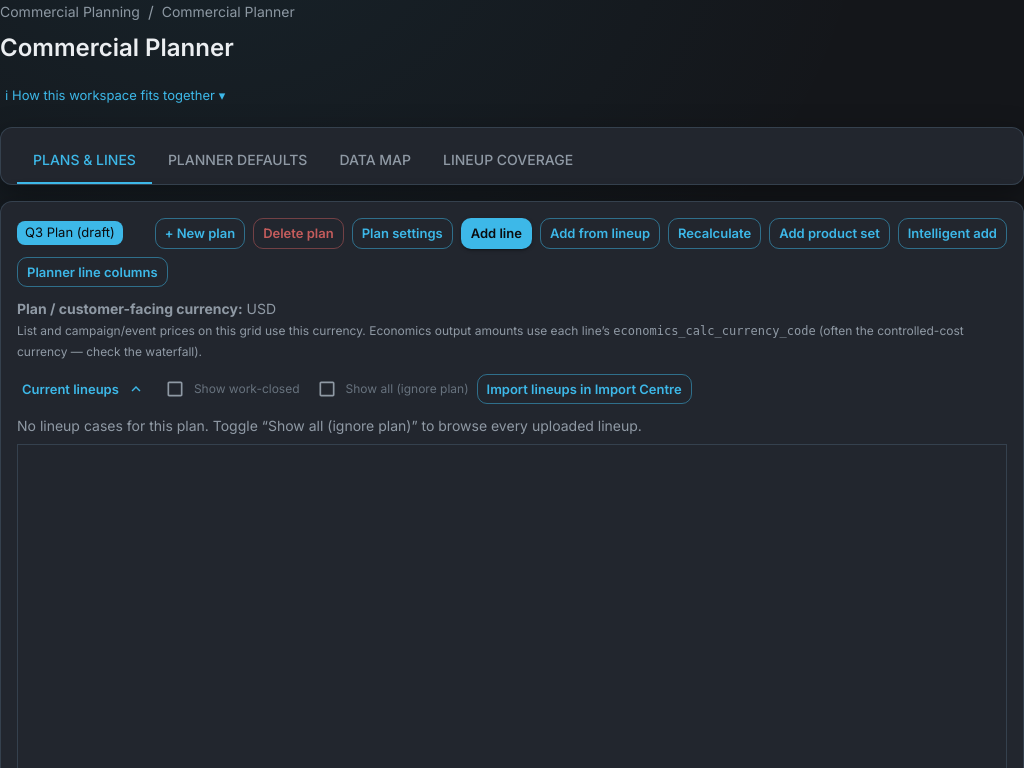
Test: CommercialPlannerPage › shows economics trust banner after Recalculate when API reports low trust
Check: the text "Q3 Plan (draft)" is shown, box [25,224,115,240]
Click the button "Recalculate": (715,233) [668,218,761,249]
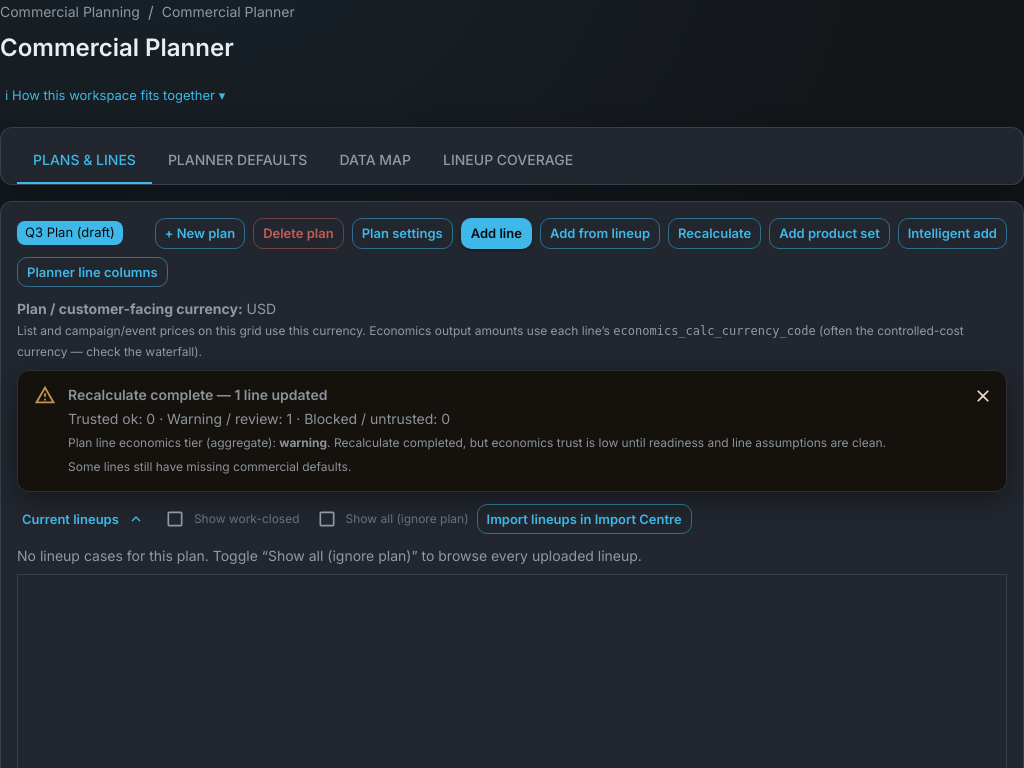
Check: the message with test id "recalculate-trust-banner" shows "economics trust is low", box [331,435,886,450]
Check: the message with test id "recalculate-trust-banner" shows "Some lines still have missing commercial defaults", box [68,459,351,474]
Check: the message with test id "recalculate-trust-banner" shows "Trusted ok:", box [68,410,146,427]
